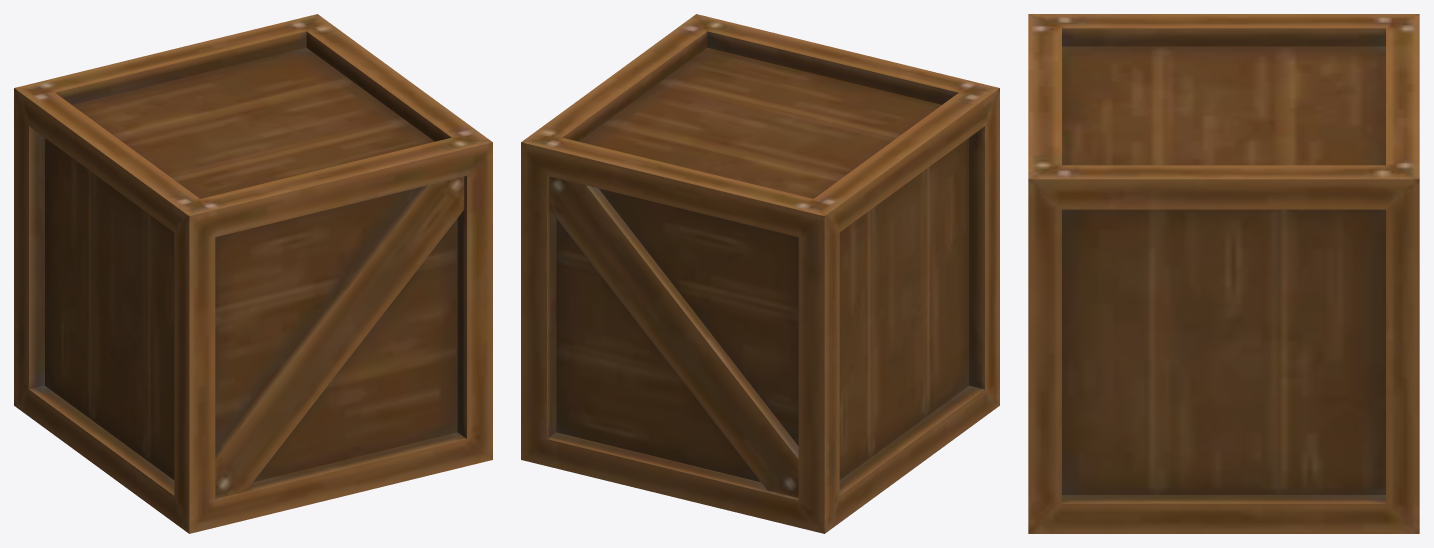
File: SM_Wooden_Box_01_061c5a.glb
The picture shows the model from 3 angles, left to right: view 1: azimuth 30°, elevation 25°; view 2: azimuth 150°, elevation 25°; view 3: azimuth 270°, elevation 25°; orthographic projection. The views are drawn at different scales.
Size of the model in its own units: 0.7086 by 0.7086 by 0.7086.
1 material, 1 textured.
